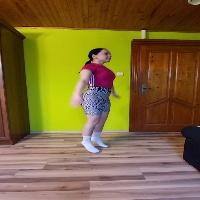jumping_jacks: (59, 42, 132, 165)
